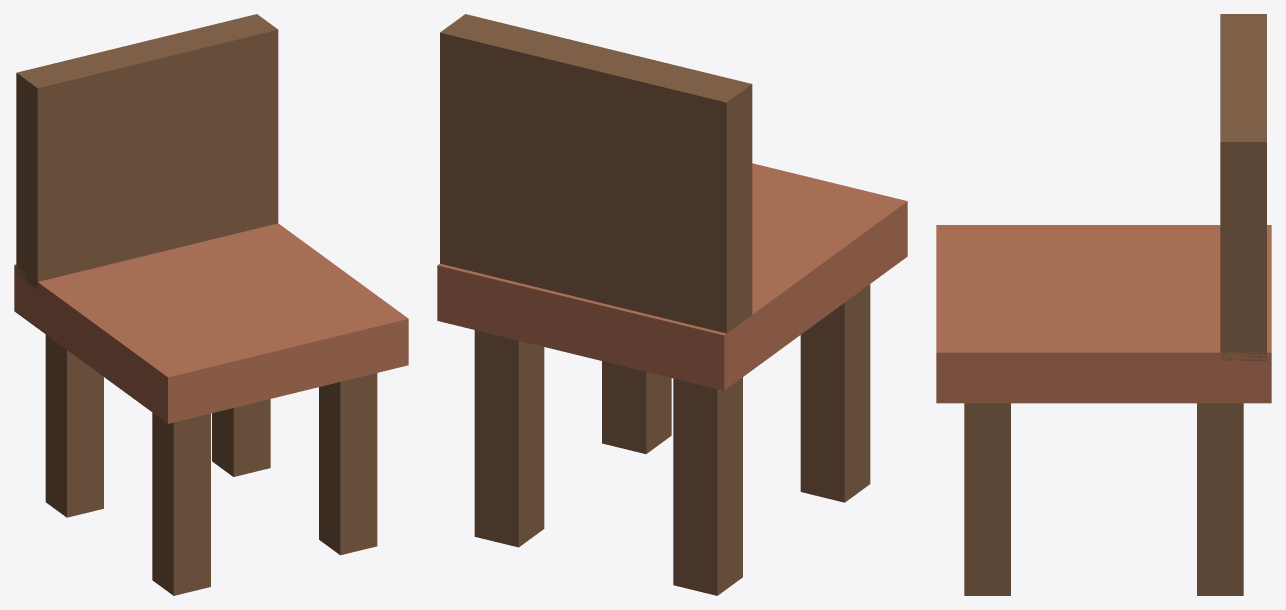
The model's file is prop_chair.glb.
The picture shows the model from 3 angles, left to right: view 1: azimuth 30°, elevation 25°; view 2: azimuth 150°, elevation 25°; view 3: azimuth 270°, elevation 25°; orthographic projection. The views are drawn at different scales.
Parts seen in each view (by area): view 1: prop_chair; view 2: prop_chair; view 3: prop_chair.
Boxes of the visible parts, x1,y1,x2,y2 form: prop_chair: (14, 14, 408, 595); prop_chair: (437, 14, 907, 595); prop_chair: (936, 14, 1271, 595).
Size of the model in its own units: 0.65 by 1.1 by 0.72.
Materials: 1 (1 with a texture image).
